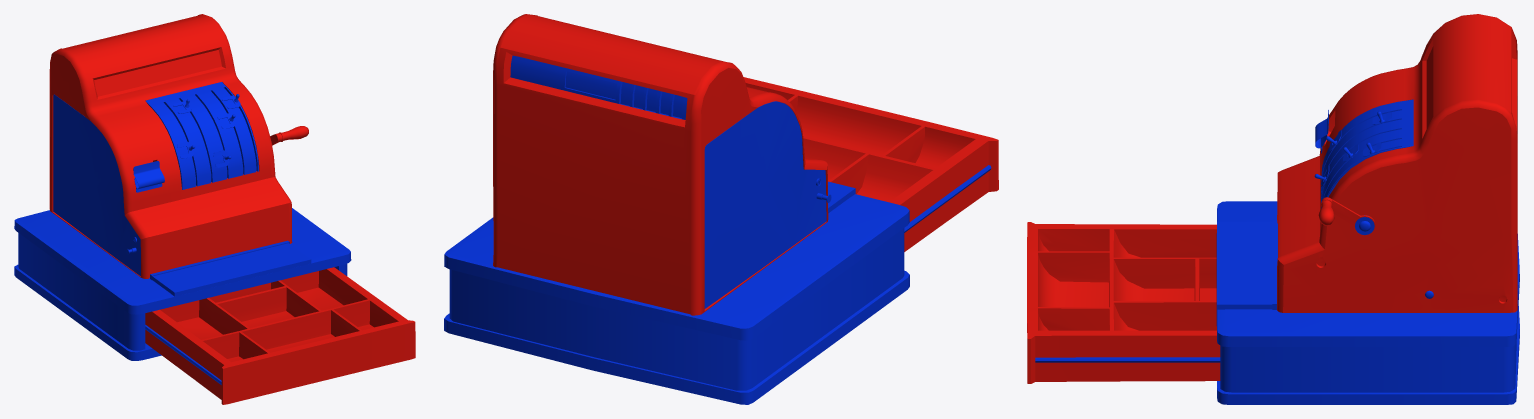
File: cashregister(lowpoly).fbx
3 renders of one model, left to right at view 1: azimuth 30°, elevation 25°; view 2: azimuth 150°, elevation 25°; view 3: azimuth 270°, elevation 25°, orthographic. The views are drawn at different scales.
Parts seen in each view (by area): view 1: basemain_low, drawer_low, lowerbox_low, sidedoor_low, frontboard_low, sidepart_low, frontbox_low, glass_low, metalpart_low, switchbase_low, extrapart_low, drawerslider_low; view 2: basemain_low, lowerbox_low, drawer_low, sidedoor_low, sidepart_low, backnumber_low, drawerslider_low, frontbox_low; view 3: sidepart_low, lowerbox_low, drawer_low, basemain_low, frontbox_low, frontboard_low, drawerslider_low, glass_low, handle_low, extrapart_low, switchbase_low.
Boxes of the visible parts, box(x1,y1,x2,y2) form: basemain_low: box(63, 14, 289, 277); drawer_low: box(145, 267, 415, 404); lowerbox_low: box(14, 208, 351, 360); sidedoor_low: box(53, 94, 140, 276); frontboard_low: box(145, 82, 258, 189); sidepart_low: box(49, 14, 292, 278); frontbox_low: box(152, 243, 311, 296); glass_low: box(94, 50, 221, 96); metalpart_low: box(133, 161, 164, 192); switchbase_low: box(173, 95, 240, 167); extrapart_low: box(150, 240, 289, 279); drawerslider_low: box(145, 325, 221, 384); basemain_low: box(494, 14, 818, 314); lowerbox_low: box(444, 194, 909, 404); drawer_low: box(743, 77, 998, 251); sidedoor_low: box(704, 101, 826, 308); sidepart_low: box(493, 14, 828, 315); backnumber_low: box(510, 55, 687, 119); drawerslider_low: box(904, 165, 991, 232); frontbox_low: box(828, 181, 855, 212); sidepart_low: box(1277, 14, 1517, 312); lowerbox_low: box(1216, 201, 1519, 404); drawer_low: box(1027, 222, 1220, 383); basemain_low: box(1278, 15, 1517, 257); frontbox_low: box(1217, 221, 1272, 309); frontboard_low: box(1321, 99, 1413, 208); drawerslider_low: box(1035, 357, 1220, 362); glass_low: box(1426, 46, 1433, 128); handle_low: box(1320, 197, 1375, 235); extrapart_low: box(1272, 220, 1277, 309); switchbase_low: box(1321, 112, 1391, 187).
Bounding box in the file's own units: 49.83 × 48.31 × 76.8.
